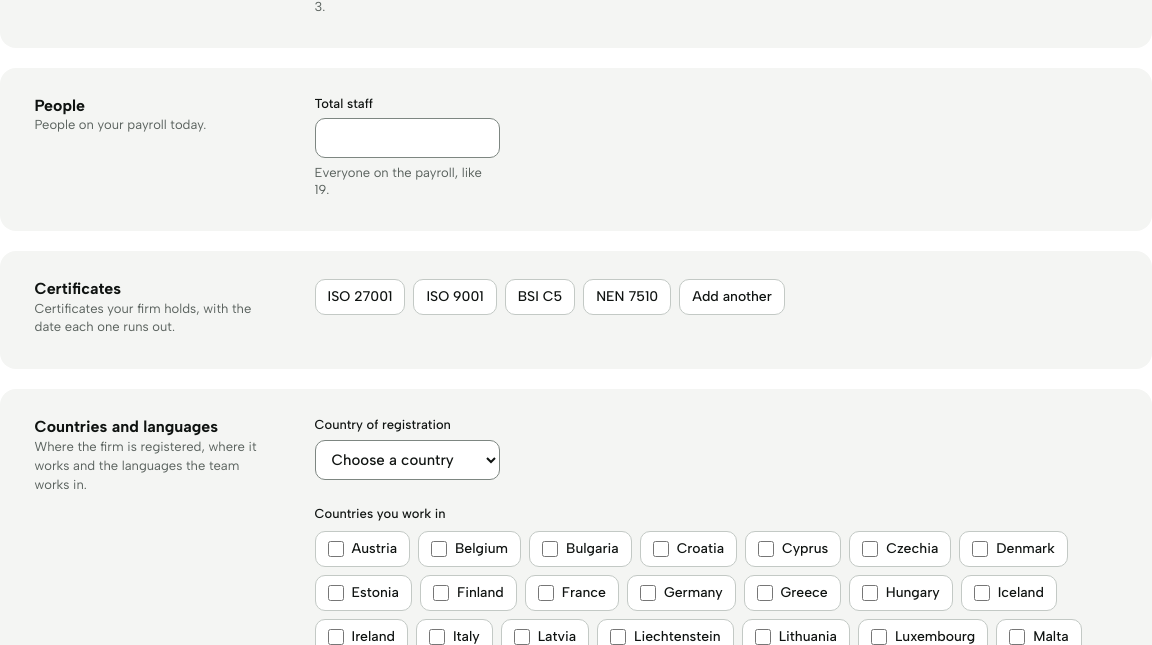
Test: ProfileForm, values and errors › adds a named certificate as a pressed chip and announces its removal
(page scrolled)
Click the button "Add another" at [732, 297], box left=679, top=279, right=785, bottom=315
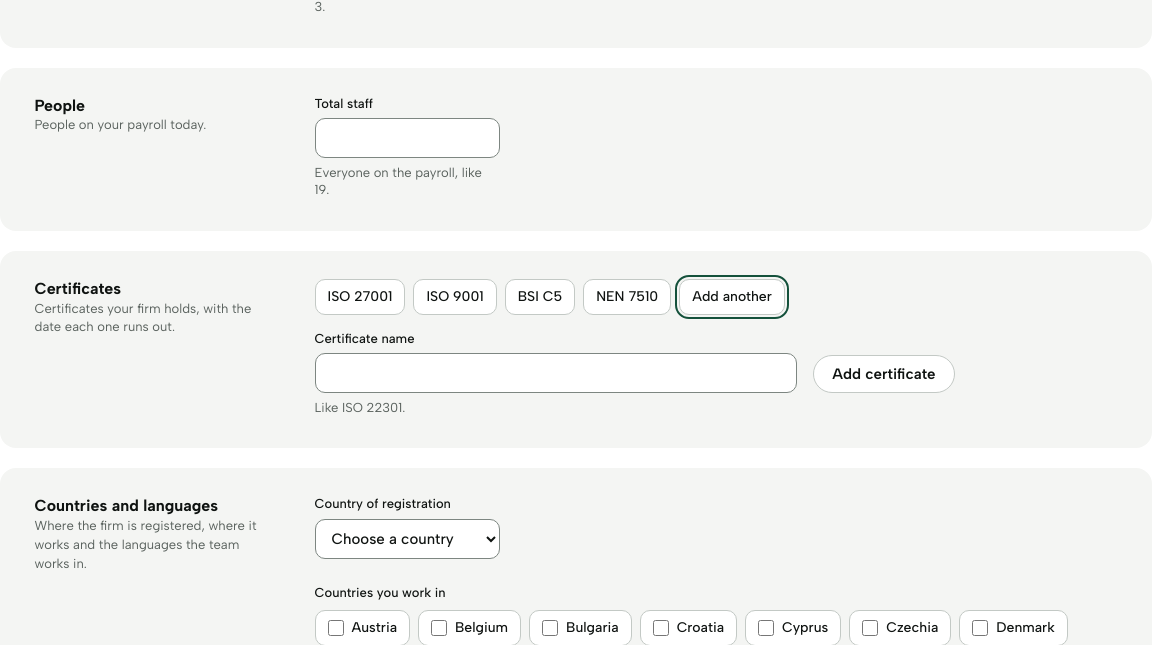
Type "  ISO 22301 " into the field labelled "Certificate name" at [556, 373], box left=314, top=353, right=797, bottom=393
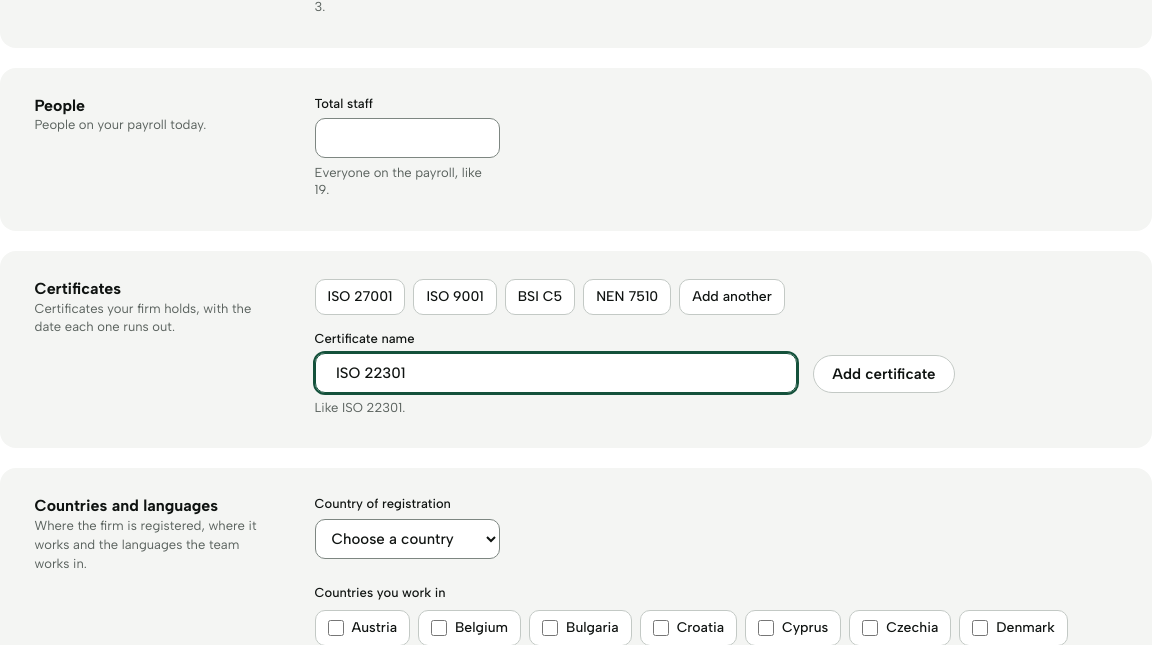
Click the button "Add certificate" at [884, 374], box left=813, top=355, right=955, bottom=393
(page scrolled)
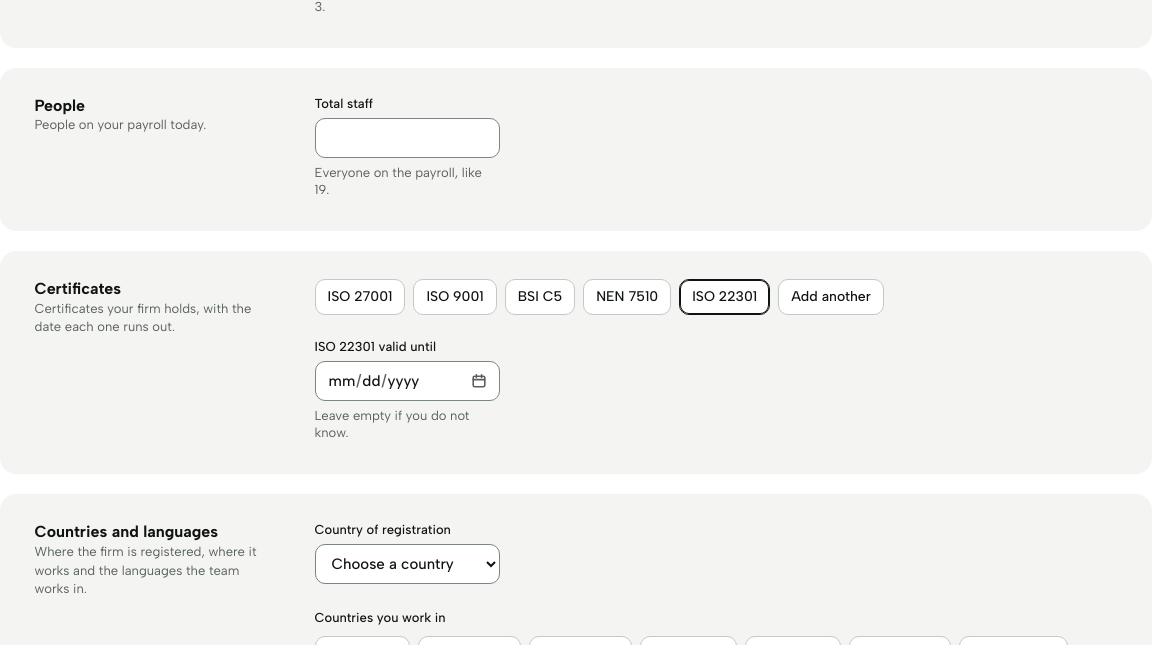
Click the button "ISO 22301" at [725, 297], box left=679, top=279, right=770, bottom=315
(page scrolled)
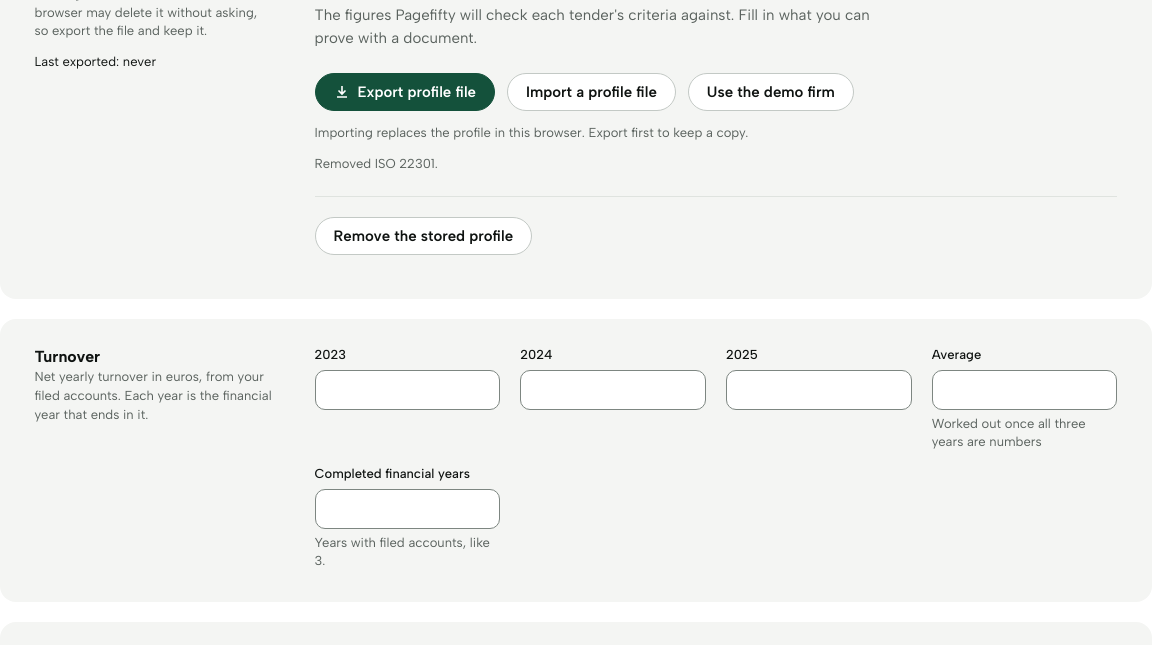
Check: the message reads "Removed ISO 22301.", box left=314, top=156, right=438, bottom=171
